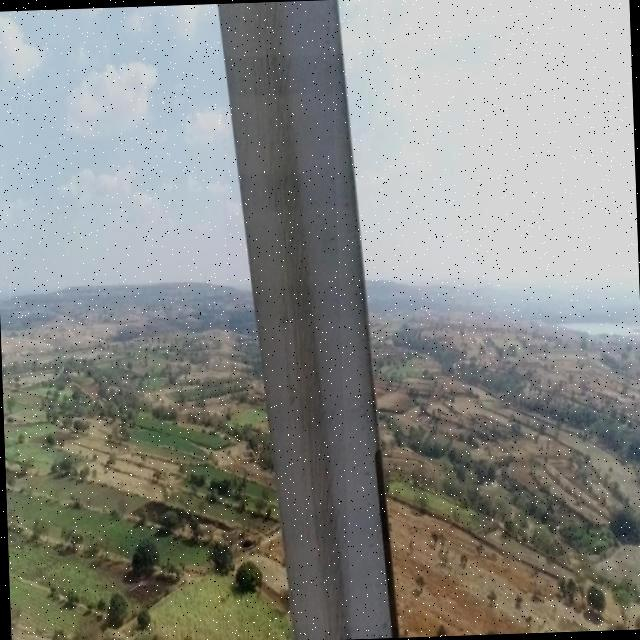Dirt: (215, 2, 400, 640)
